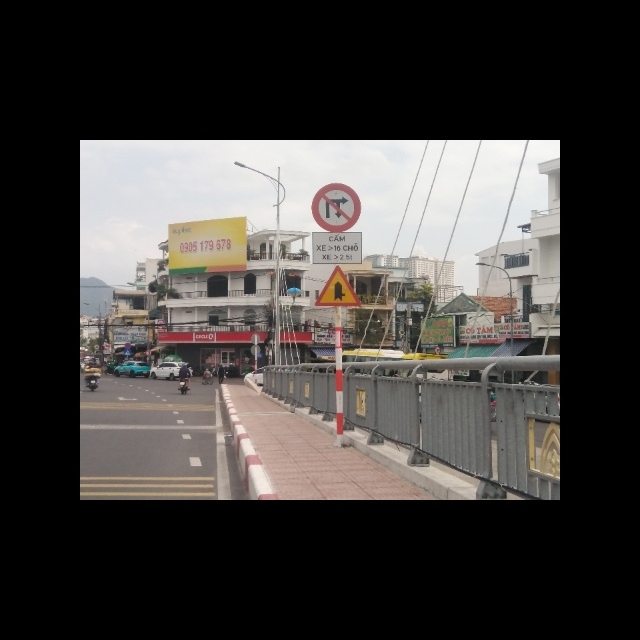Cấm quay đầu và rẽ phải: (311, 184, 362, 230)
Giao nhau với đường không ưu tiên: (314, 265, 361, 306)
